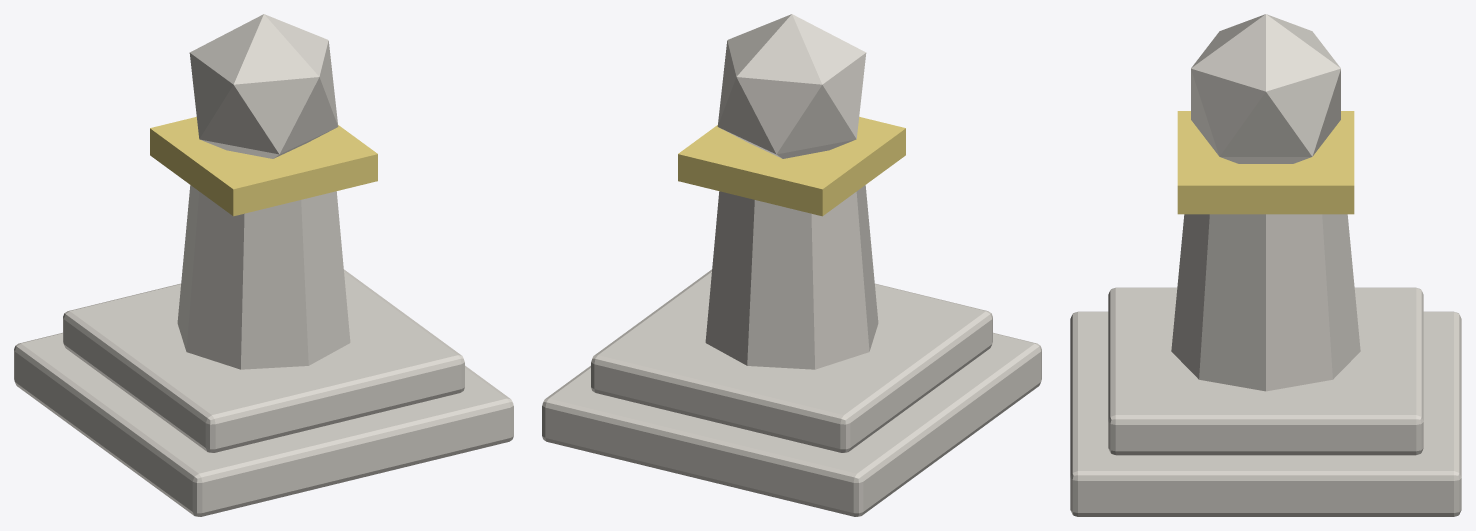
Rendered from MachuPicchu_Peon.fbx.
3 views of the same model, side by side, from view 1: azimuth 30°, elevation 25°; view 2: azimuth 150°, elevation 25°; view 3: azimuth 270°, elevation 25° (orthographic). The views are drawn at different scales.
Visible parts, largest first — view 1: MachuPicchu_Peon; view 2: MachuPicchu_Peon; view 3: MachuPicchu_Peon.
Part boxes in pixels (box(x1,y1,x2,y2)): MachuPicchu_Peon: box(14, 14, 513, 516); MachuPicchu_Peon: box(542, 14, 1041, 516); MachuPicchu_Peon: box(1070, 14, 1461, 516).
Size of the model in its own units: 0.62 by 0.74 by 0.62.
